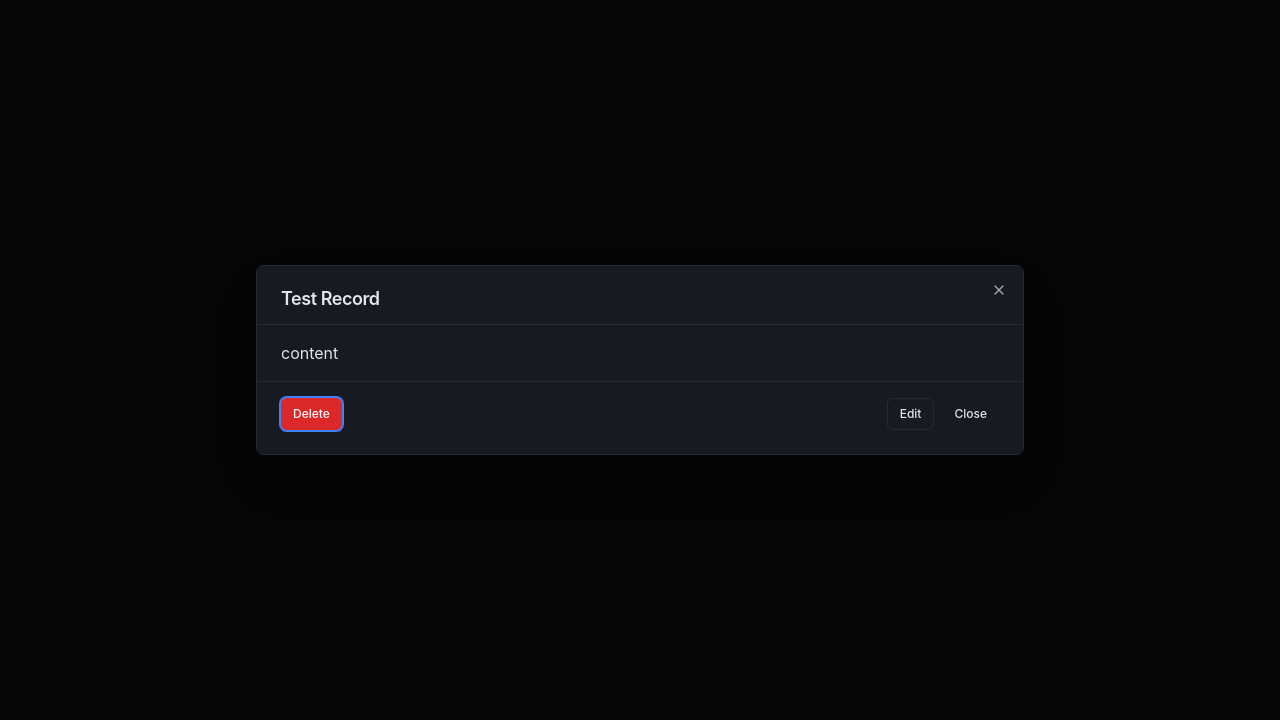
Test: RecordModal — view mode › shows delete confirmation in view mode after Delete click
What coordinates should you click on to do the following:
click the button "Delete"
I would click on:
 (311, 414)
Its box is [281,398,342,430].
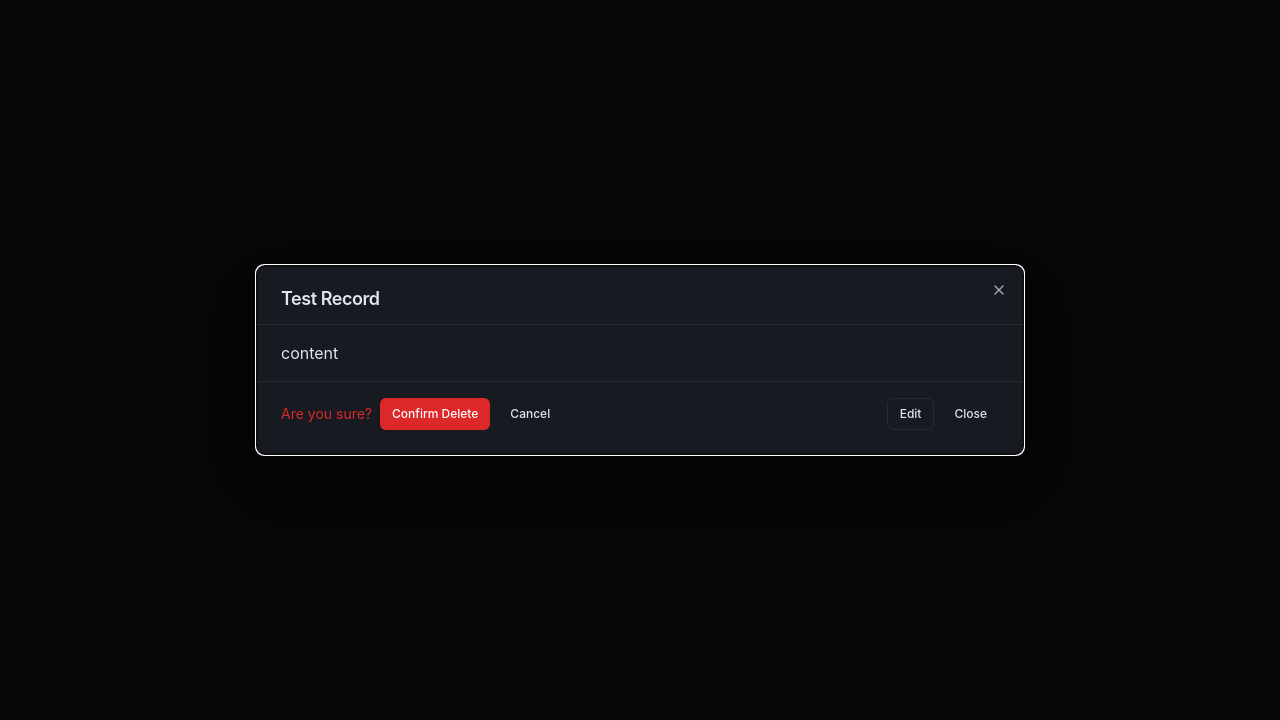
Result: the text "Are you sure?" is shown at [281,404,372,424]
Result: the button "Confirm Delete" is shown at [380,398,490,430]
